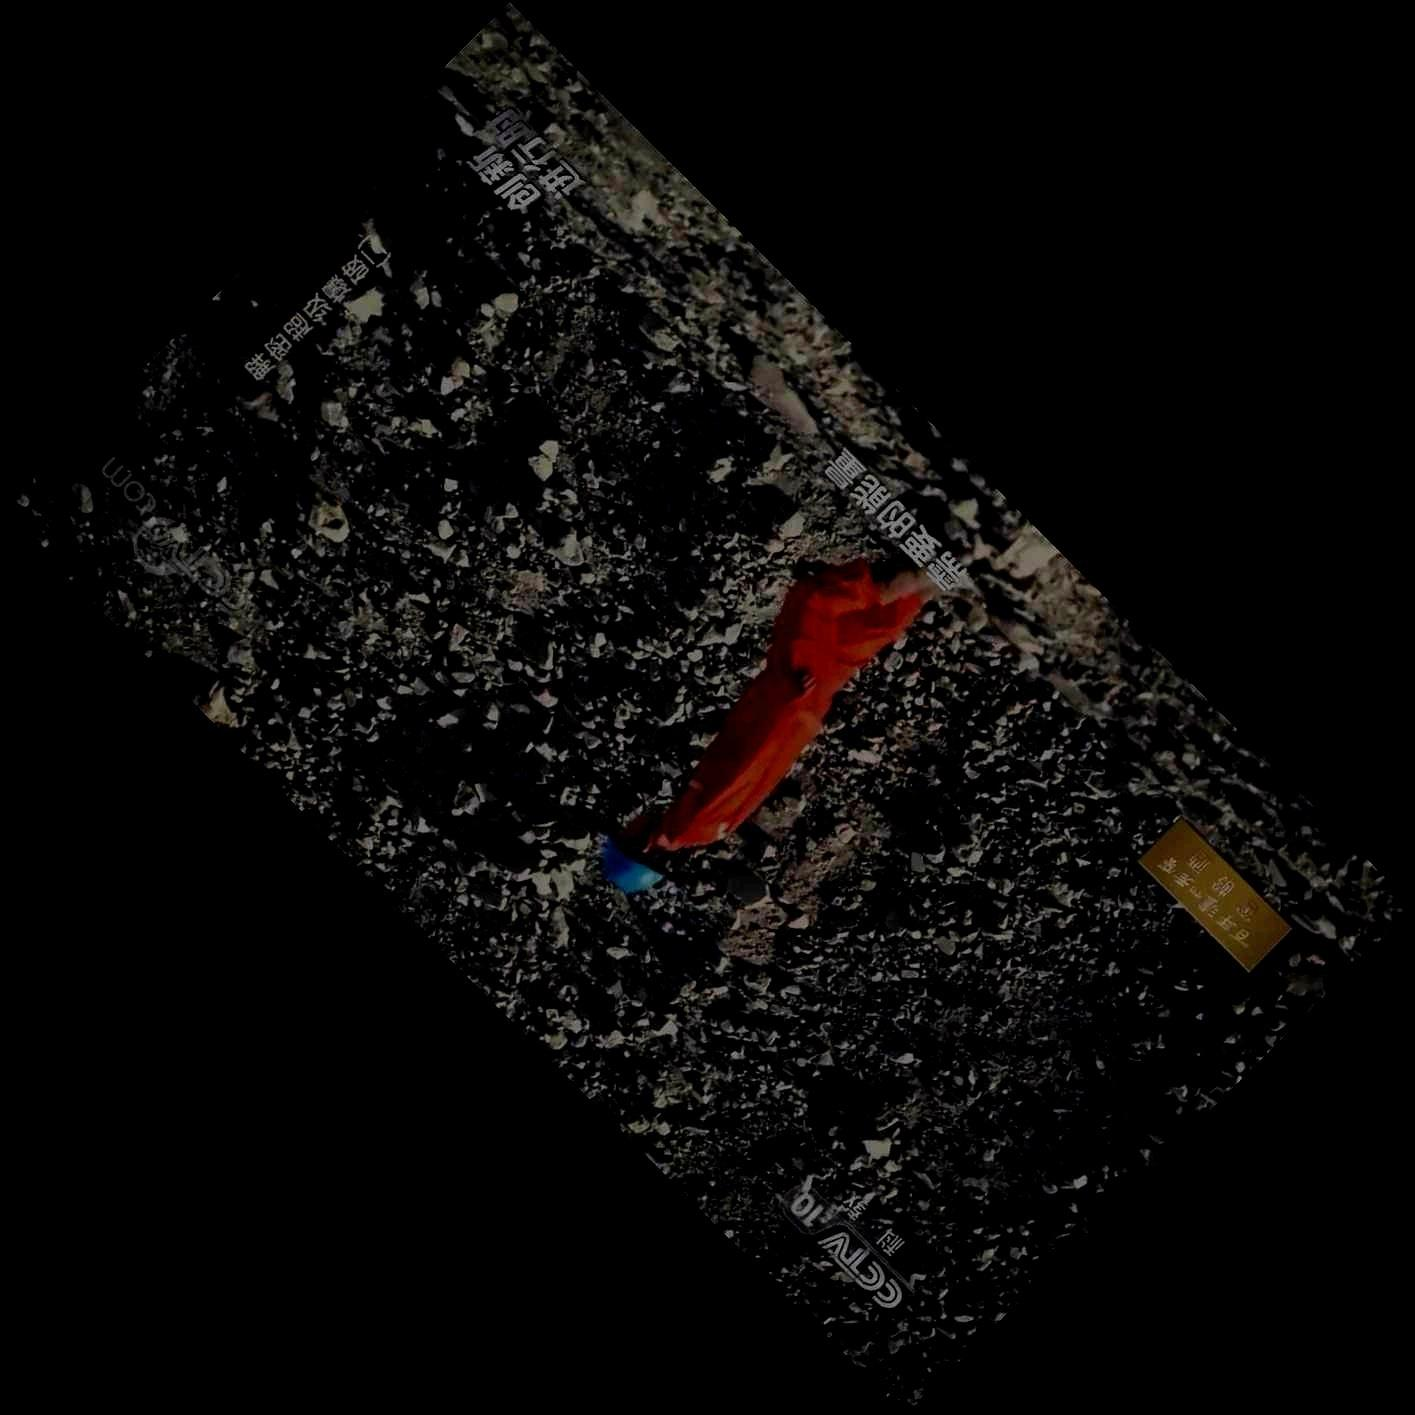helmet: (597, 811, 669, 893)
